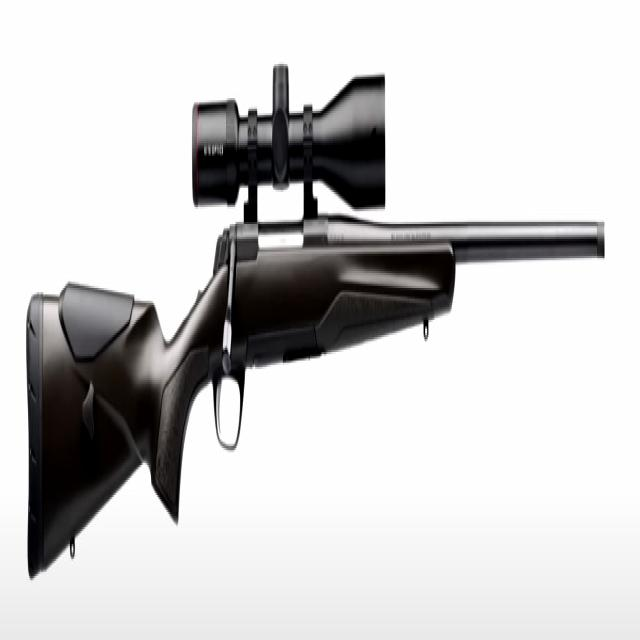rifle: (20, 39, 609, 590)
